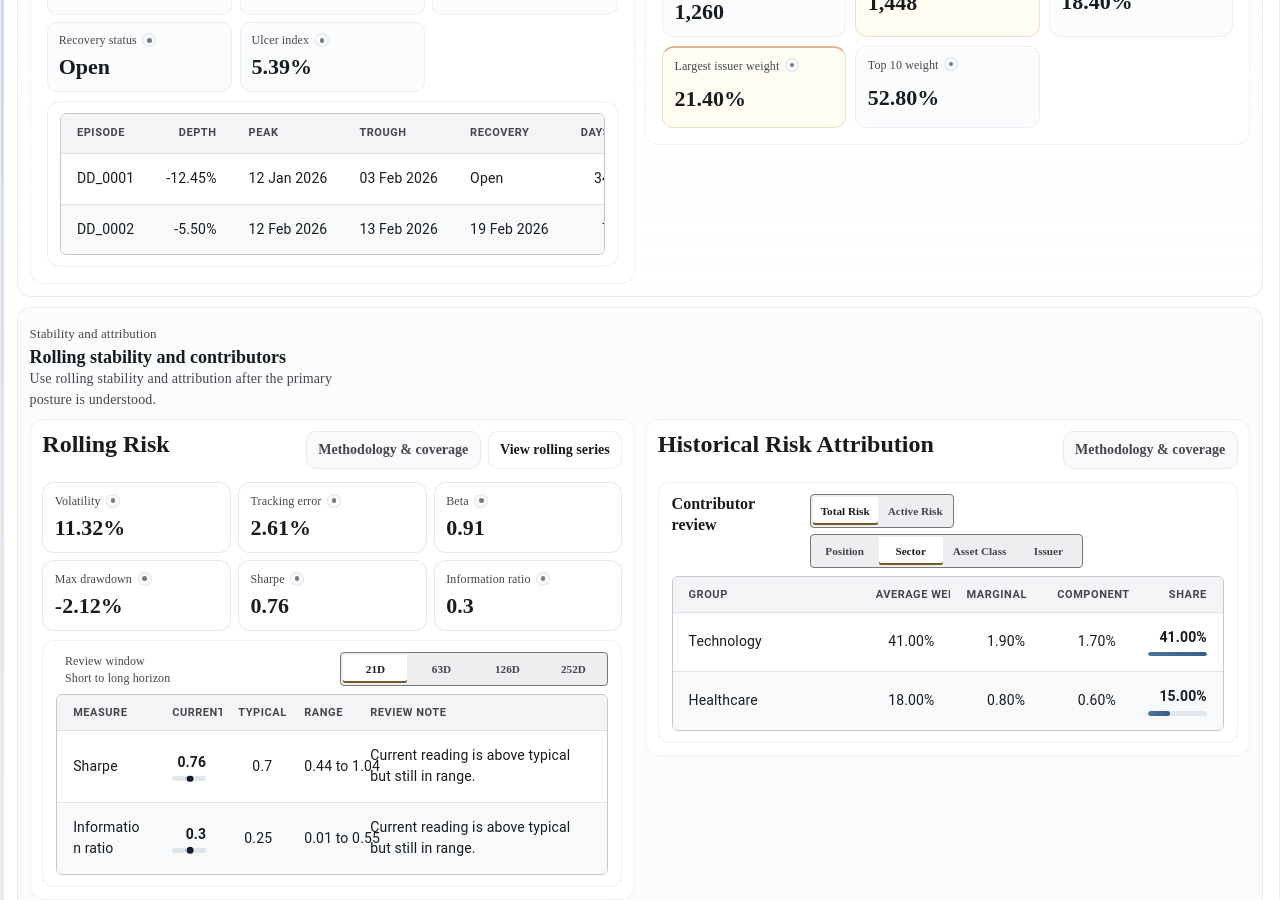
Test: PerformanceRiskMode › does not request rolling detail on first paint and fetches it only on drawer drill-down
The image size is (1280, 900).
(page scrolled)
expect the table named "Rolling risk summary table" is shown: met, box [57,696,607,874]
Click the button "View rolling series": (555, 450) [488,431,622,469]
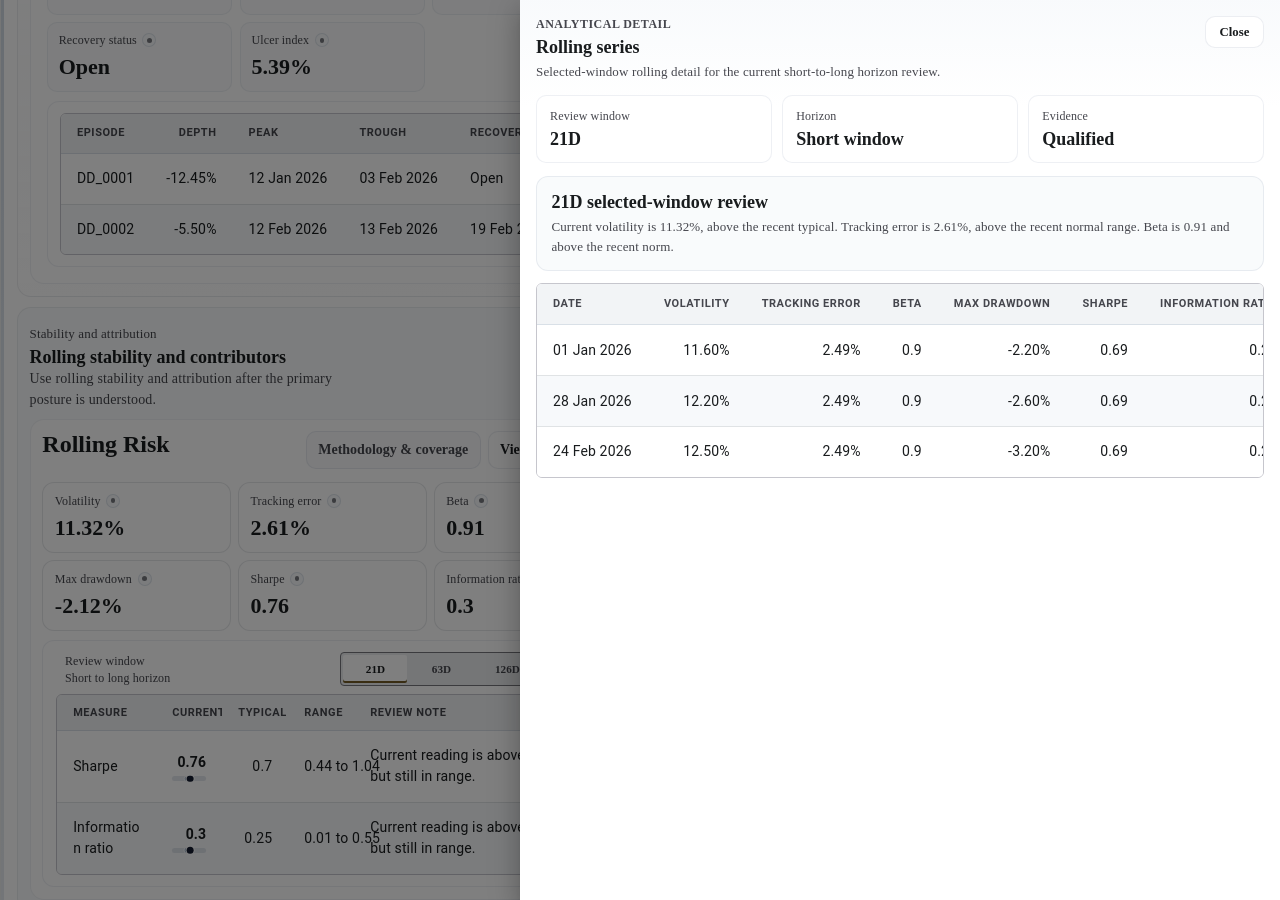
expect the dialog named "Rolling series detail" is shown: met, box [520,0,1279,899]
expect the table named "Rolling risk series table" is shown: met, box [537,284,1264,477]
